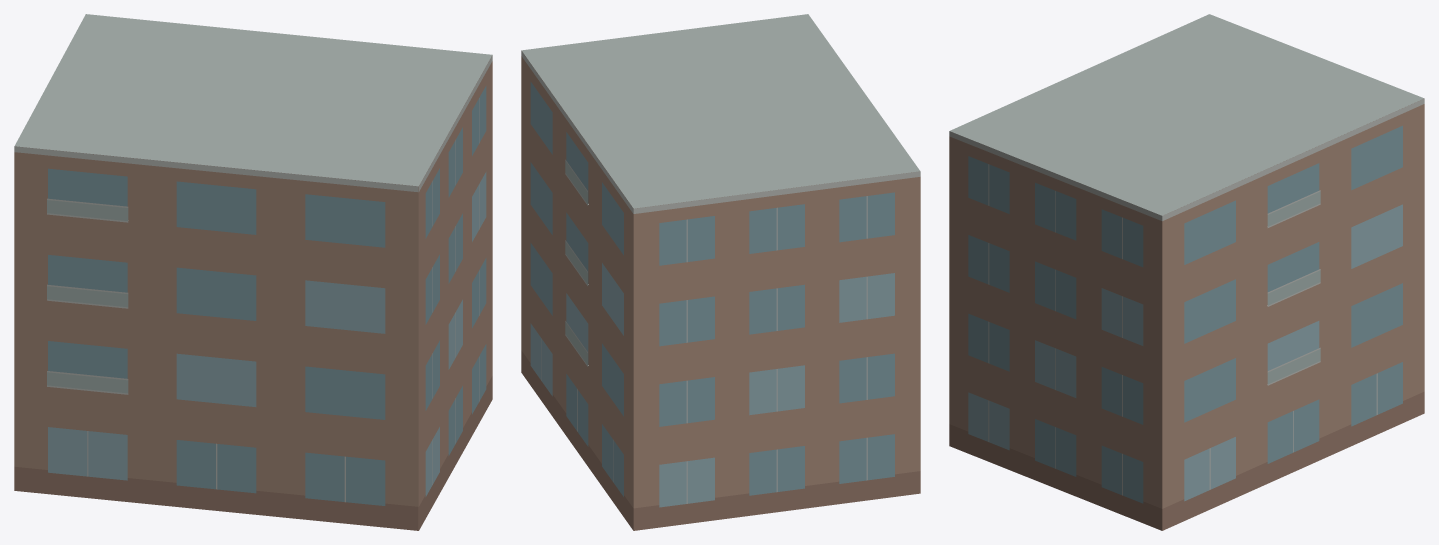
Rendered from survey-upis-32846978.glb.
The picture shows the model from 3 angles, left to right: view 1: azimuth 30°, elevation 25°; view 2: azimuth 150°, elevation 25°; view 3: azimuth 270°, elevation 25°; orthographic projection. The views are drawn at different scales.
Parts seen in each view (by area): view 1: survey-upis-32846978.tmp; view 2: survey-upis-32846978.tmp; view 3: survey-upis-32846978.tmp.
Boxes of the visible parts, x1,y1,x2,y2 form: survey-upis-32846978.tmp: (14,14,492,530); survey-upis-32846978.tmp: (521,14,920,530); survey-upis-32846978.tmp: (949,14,1424,530).
Size of the model in its own units: 19.56 by 14.23 by 19.46.
